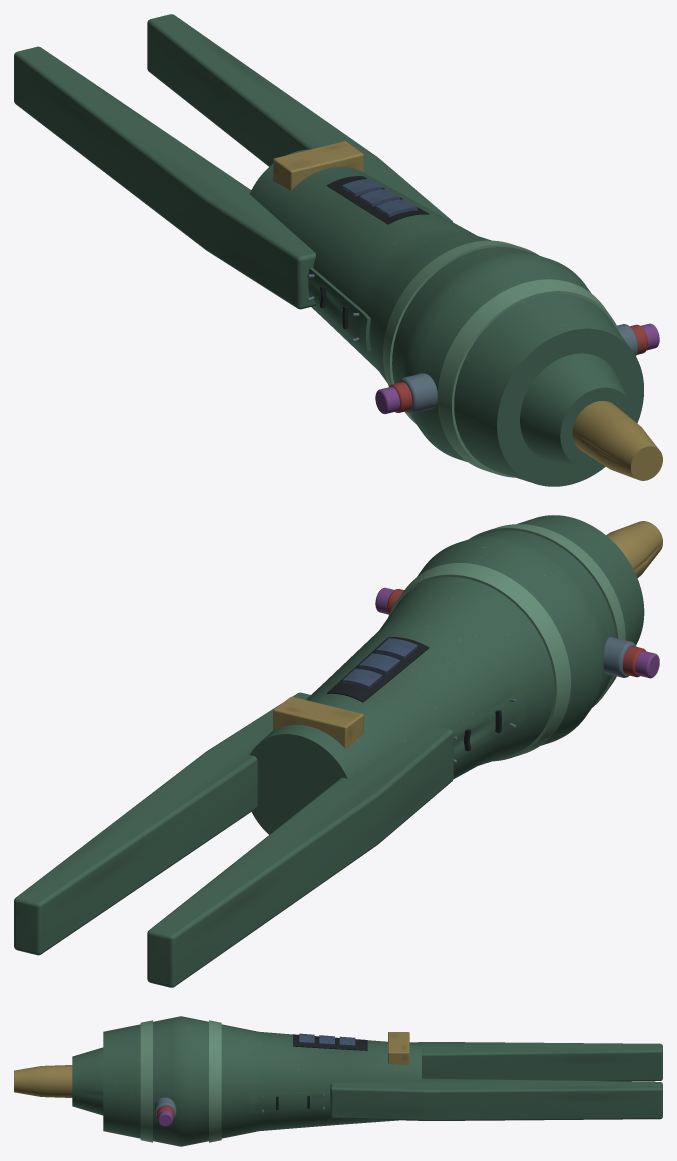
3 views of the same model, one above another, from view 1: azimuth 30°, elevation 25°; view 2: azimuth 150°, elevation 25°; view 3: azimuth 270°, elevation 25° (orthographic). The views are drawn at different scales.
Parts seen in each view (by area): view 1: Rigellian Maxi-det green core, Rigellian Maxi-det rear prong 0, Rigellian Maxi-det rear prong 1, Rigellian Maxi-det forward neck, Rigellian Maxi-det pale band 0, Rigellian Maxi-det gold forward fitting, Rigellian Maxi-det fork base gold fitting, Rigellian Maxi-det pale band 1, Rigellian Maxi-det service cover 1, Rigellian Maxi-det side fitting base 0, Rigellian Maxi-det centre recess surround; view 2: Rigellian Maxi-det green core, Rigellian Maxi-det rear prong 0, Rigellian Maxi-det rear prong 1, Rigellian Maxi-det pale band 1, Rigellian Maxi-det fork base gold fitting, Rigellian Maxi-det pale band 0, Rigellian Maxi-det service cover 1, Rigellian Maxi-det gold forward fitting, Rigellian Maxi-det centre recess surround, Rigellian Maxi-det side fitting base 0; view 3: Rigellian Maxi-det green core, Rigellian Maxi-det rear prong 1, Rigellian Maxi-det rear prong 0, Rigellian Maxi-det forward neck, Rigellian Maxi-det gold forward fitting, Rigellian Maxi-det pale band 1, Rigellian Maxi-det pale band 0, Rigellian Maxi-det service cover 0, Rigellian Maxi-det fork base gold fitting, Rigellian Maxi-det centre recess surround, Rigellian Maxi-det side fitting base 1, Rigellian Maxi-det purple side fitting 1.
Part boxes in pixels (left/top/right/bottom): Rigellian Maxi-det green core: left=250, top=149, right=643, bottom=486; Rigellian Maxi-det rear prong 0: left=14, top=46, right=315, bottom=309; Rigellian Maxi-det rear prong 1: left=147, top=14, right=452, bottom=221; Rigellian Maxi-det forward neck: left=520, top=353, right=633, bottom=466; Rigellian Maxi-det pale band 0: left=437, top=279, right=620, bottom=477; Rigellian Maxi-det gold forward fitting: left=572, top=401, right=662, bottom=480; Rigellian Maxi-det fork base gold fitting: left=273, top=141, right=363, bottom=190; Rigellian Maxi-det pale band 1: left=383, top=240, right=539, bottom=423; Rigellian Maxi-det service cover 1: left=308, top=268, right=370, bottom=351; Rigellian Maxi-det side fitting base 0: left=398, top=373, right=437, bottom=413; Rigellian Maxi-det centre recess surround: left=326, top=176, right=429, bottom=224; Rigellian Maxi-det green core: left=250, top=515, right=644, bottom=834; Rigellian Maxi-det rear prong 0: left=147, top=725, right=453, bottom=987; Rigellian Maxi-det rear prong 1: left=14, top=692, right=310, bottom=955; Rigellian Maxi-det pale band 1: left=388, top=563, right=570, bottom=761; Rigellian Maxi-det fork base gold fitting: left=273, top=696, right=363, bottom=748; Rigellian Maxi-det pale band 0: left=470, top=524, right=625, bottom=707; Rigellian Maxi-det service cover 1: left=453, top=688, right=525, bottom=759; Rigellian Maxi-det gold forward fitting: left=606, top=521, right=662, bottom=577; Rigellian Maxi-det centre recess surround: left=327, top=637, right=429, bottom=702; Rigellian Maxi-det side fitting base 0: left=603, top=636, right=636, bottom=677; Rigellian Maxi-det green core: left=103, top=1016, right=421, bottom=1146; Rigellian Maxi-det rear prong 1: left=330, top=1078, right=662, bottom=1120; Rigellian Maxi-det rear prong 0: left=409, top=1042, right=662, bottom=1081; Rigellian Maxi-det forward neck: left=72, top=1047, right=103, bottom=1115; Rigellian Maxi-det gold forward fitting: left=14, top=1065, right=72, bottom=1097; Rigellian Maxi-det pale band 1: left=209, top=1020, right=221, bottom=1142; Rigellian Maxi-det pale band 0: left=140, top=1020, right=152, bottom=1142; Rigellian Maxi-det service cover 0: left=249, top=1091, right=330, bottom=1113; Rigellian Maxi-det fork base gold fitting: left=388, top=1032, right=409, bottom=1065; Rigellian Maxi-det centre recess surround: left=293, top=1034, right=367, bottom=1050; Rigellian Maxi-det side fitting base 1: left=154, top=1097, right=176, bottom=1118; Rigellian Maxi-det purple side fitting 1: left=158, top=1110, right=172, bottom=1126.
Size of the model in its own units: 0.595 by 0.42 by 2.09.
Materials: 8 (3 with a texture image).
